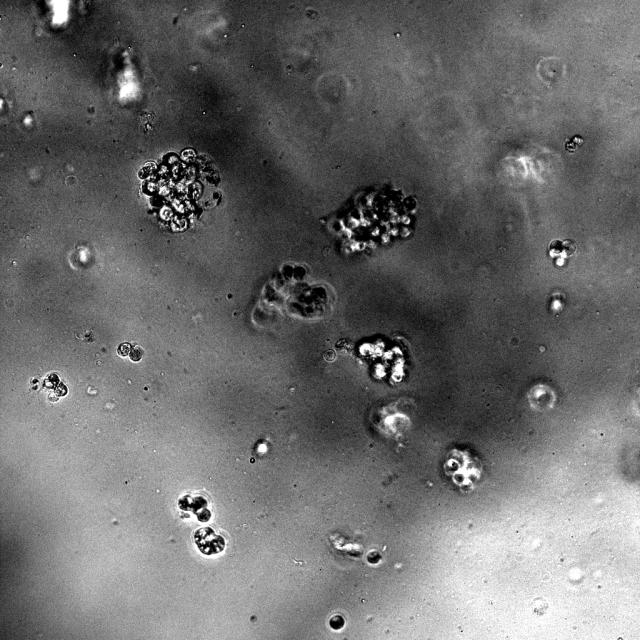organoid: (137, 148, 221, 233), (321, 184, 417, 257), (251, 261, 336, 329), (335, 334, 412, 386), (368, 397, 414, 448), (110, 48, 144, 108), (442, 447, 482, 493), (29, 372, 68, 402), (193, 525, 226, 557), (178, 493, 212, 522), (328, 531, 363, 558), (526, 381, 558, 410), (548, 239, 576, 266), (68, 245, 94, 269), (548, 289, 566, 316), (117, 342, 142, 361), (564, 134, 583, 153), (253, 438, 271, 457), (364, 548, 383, 566), (329, 613, 345, 630), (322, 349, 336, 362)
